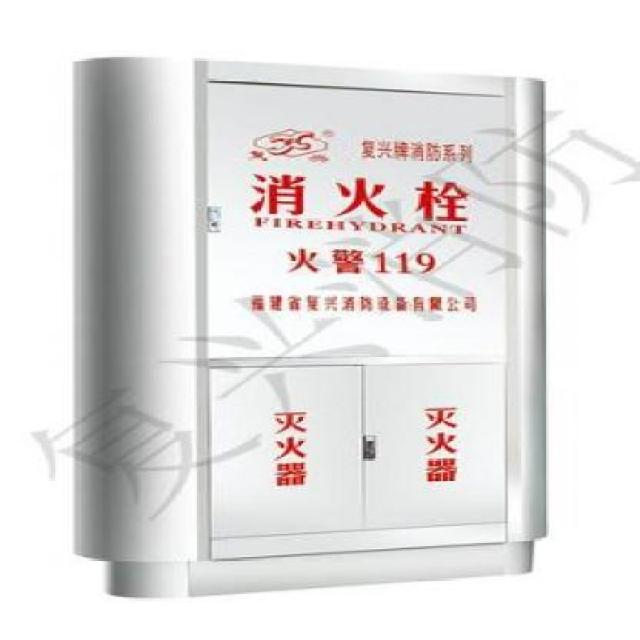firehydrant: (60, 49, 563, 606)
